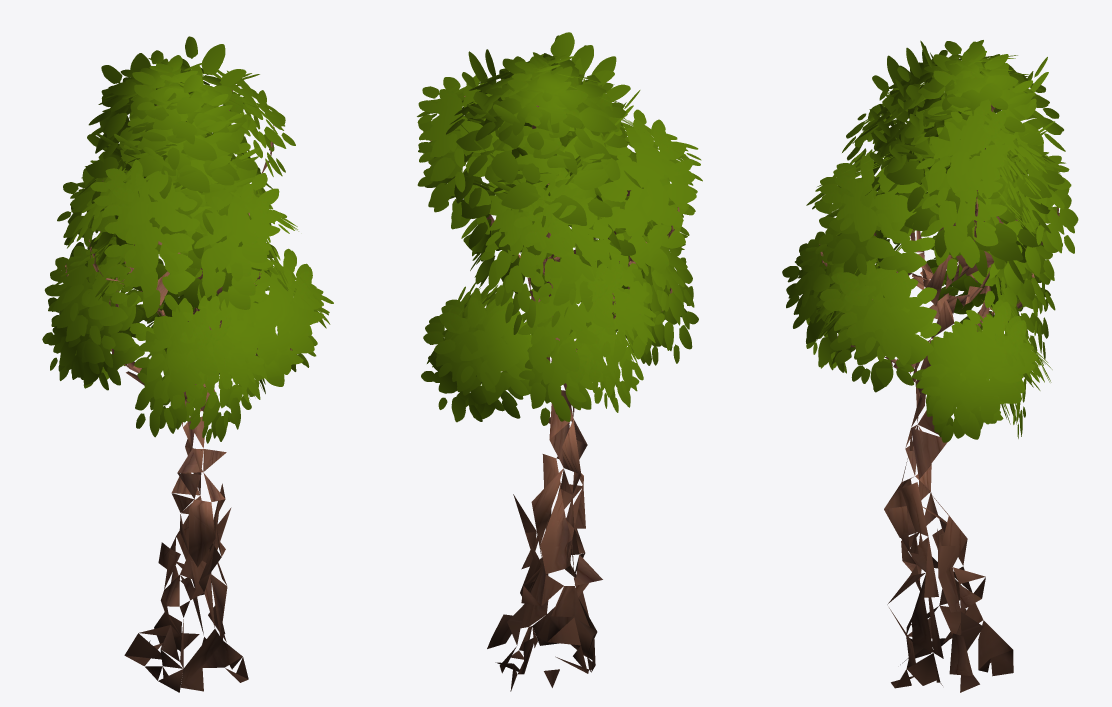
File: jati-1.glb
3 renders of one model, left to right at view 1: azimuth 30°, elevation 25°; view 2: azimuth 150°, elevation 25°; view 3: azimuth 270°, elevation 25°, orthographic. The views are drawn at different scales.
Parts seen in each view (by area): view 1: CommonTree_1; view 2: CommonTree_1; view 3: CommonTree_1.
Boxes of the visible parts, <box> form: CommonTree_1: <box>42,36,333,692</box>; CommonTree_1: <box>417,32,702,691</box>; CommonTree_1: <box>782,40,1078,692</box>.
Bounding box in the file's own units: 4.93 × 10.99 × 5.31.
2 materials, 2 textured.
